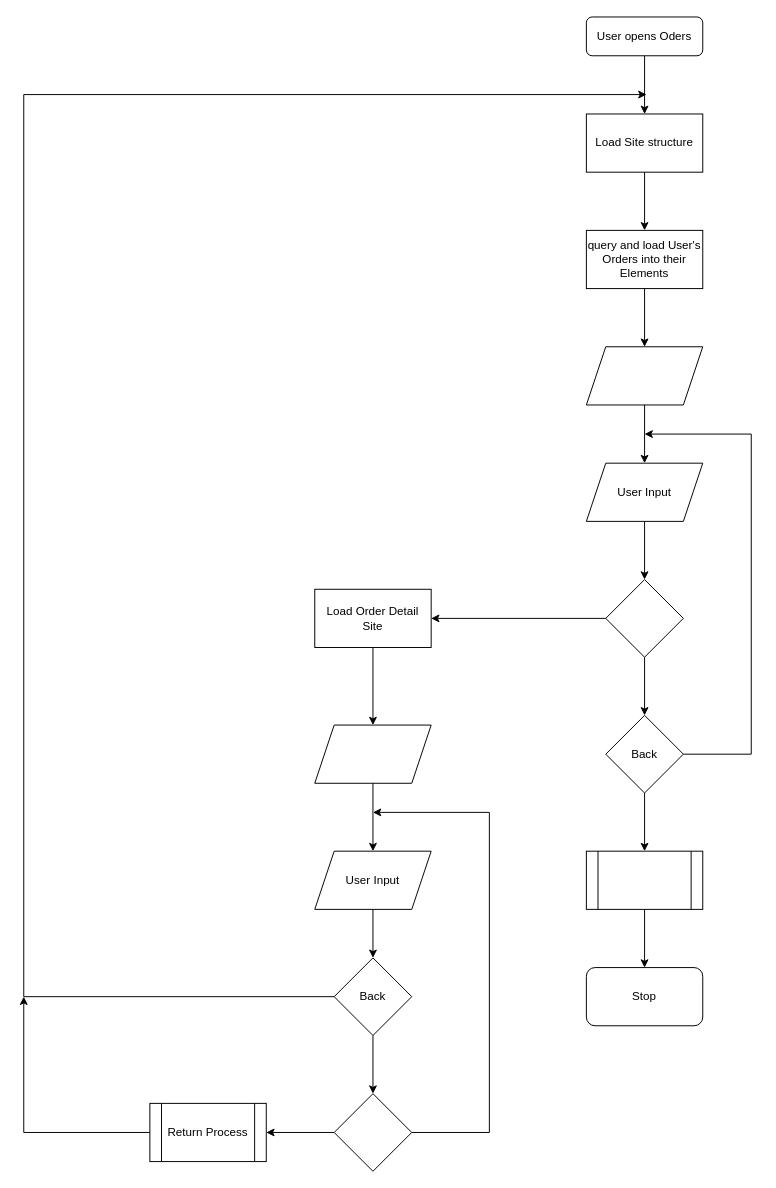
This 776x1188 diagram has some shape labels left out. The shapes that lost their labels are listed below. From the top down, each one's box as (x1, y1, x2, y2) in pixels, then its label:
(585, 346, 703, 405): Display Site
(605, 579, 683, 657): Order
(314, 724, 431, 783): Display Order Detail
(585, 850, 703, 909): User Profile Page Loading
(333, 1093, 412, 1171): Return Order
